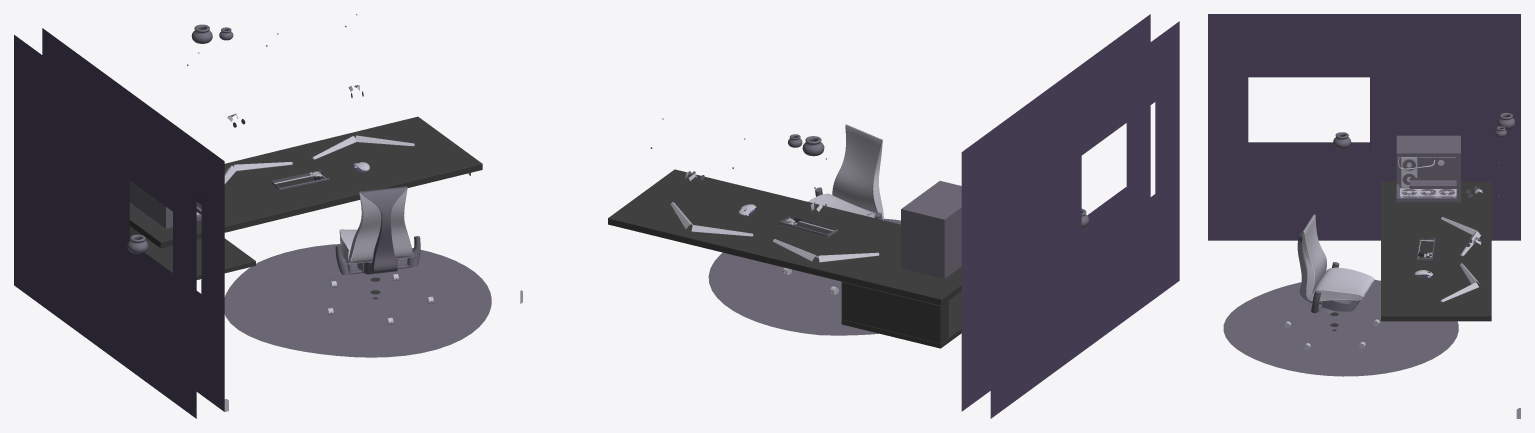
The model's file is object_2_lev1.glb.
The picture shows the model from 3 angles, left to right: view 1: azimuth 30°, elevation 25°; view 2: azimuth 150°, elevation 25°; view 3: azimuth 270°, elevation 25°; orthographic projection. The views are drawn at different scales.
Parts seen in each view (by area): view 1: object_2_lev1; view 2: object_2_lev1; view 3: object_2_lev1.
Part boxes in pixels (x1=…): object_2_lev1: x1=14, y1=14, x2=491, y2=418; object_2_lev1: x1=520, y1=14, x2=1179, y2=418; object_2_lev1: x1=1208, y1=14, x2=1520, y2=418.
Size of the model in its own units: 28.44 by 15 by 19.78.
1 material, 1 textured.
